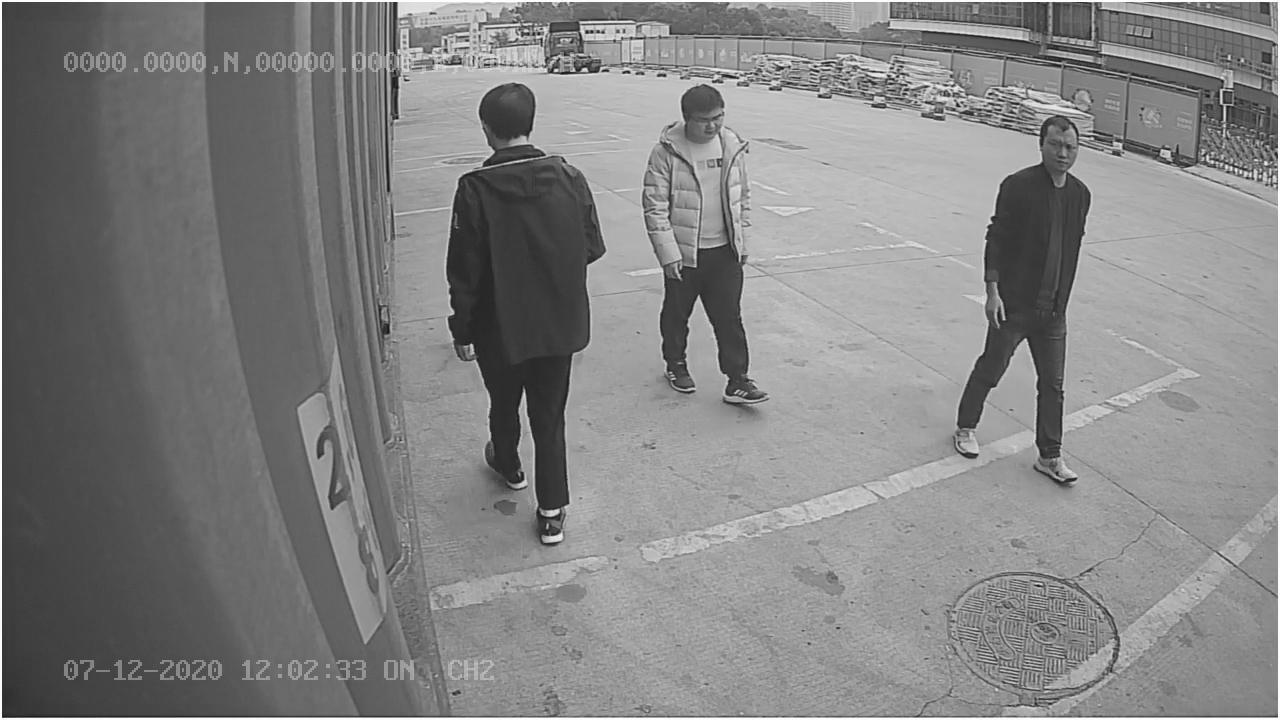person: (446, 77, 608, 545), (953, 109, 1094, 483), (638, 80, 774, 410)
